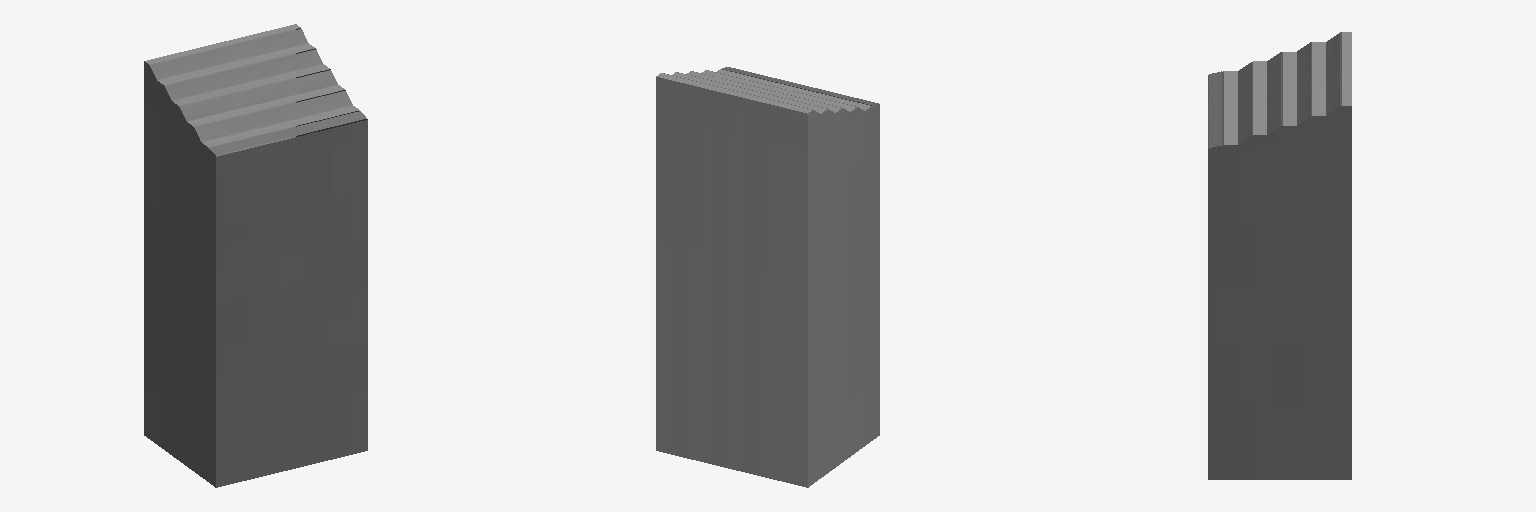
The picture shows the model from 3 angles: view 1: azimuth 30°, elevation 25°; view 2: azimuth 150°, elevation 25°; view 3: azimuth 270°, elevation 25°; orthographic projection.
Parts seen in each view (by area): view 1: standsblackmetal; view 2: standsblackmetal; view 3: standsblackmetal.
Boxes of the visible parts, x1,y1,x2,y2 form: standsblackmetal: [144, 24, 367, 487]; standsblackmetal: [656, 67, 879, 487]; standsblackmetal: [1208, 32, 1351, 479].
Size of the model in its own units: 53.1 by 125 by 43.51.
Materials: 1 (1 with a texture image).